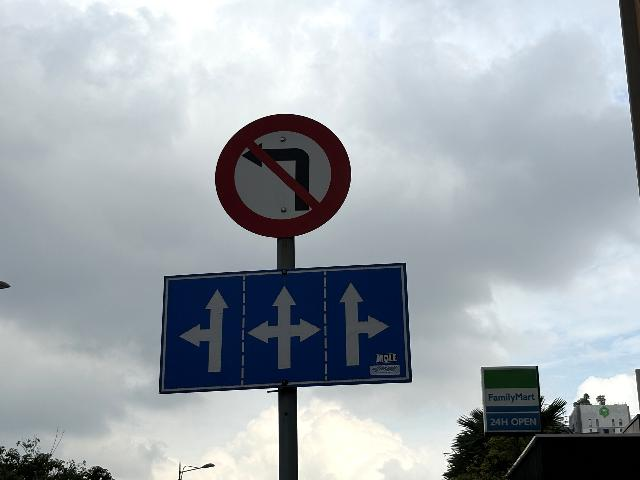cam-re-trai: (214, 112, 351, 239)
